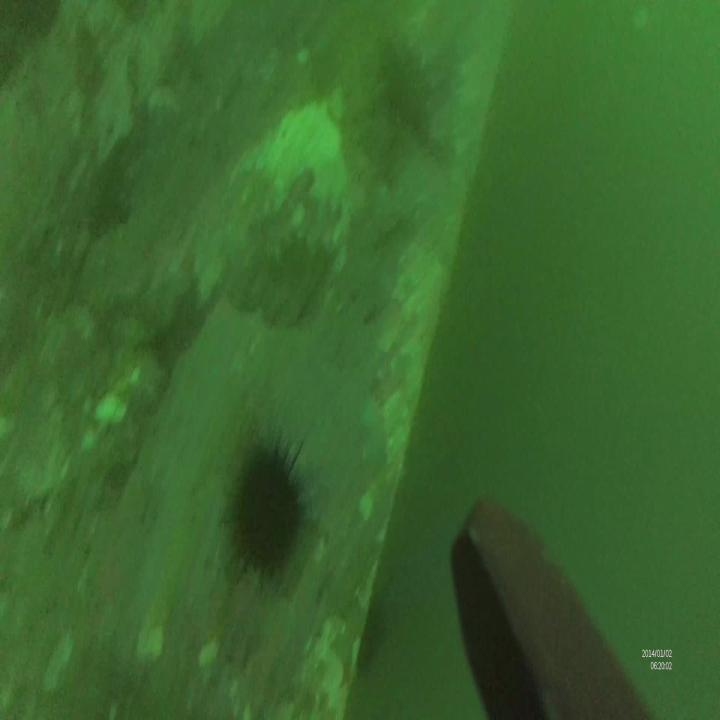echinus: (228, 426, 310, 596)
